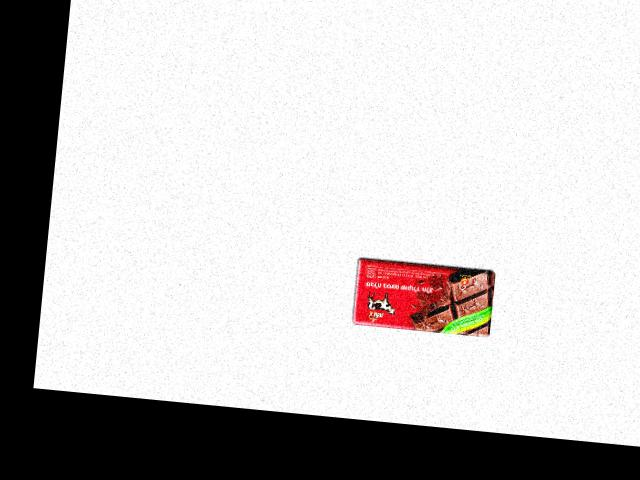chocolate: (347, 250, 496, 339)
